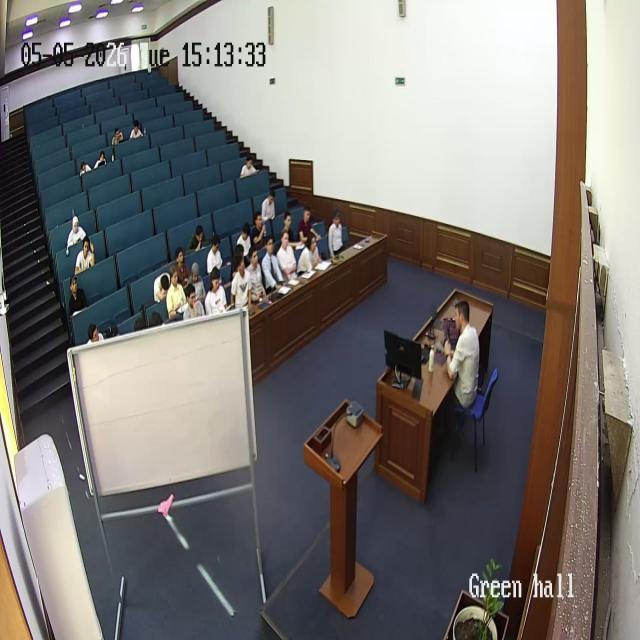person: (441, 299, 480, 417), (260, 234, 284, 292), (230, 252, 253, 310), (276, 228, 300, 282), (245, 245, 267, 302), (166, 266, 188, 319), (204, 268, 228, 314), (296, 230, 318, 276), (74, 232, 96, 276), (68, 275, 90, 317), (305, 221, 325, 267), (66, 215, 88, 253), (183, 283, 206, 319), (188, 261, 206, 305), (327, 210, 343, 258), (249, 210, 267, 252), (206, 235, 223, 277), (280, 211, 298, 248), (297, 204, 314, 243), (174, 248, 190, 286), (236, 222, 252, 260), (153, 273, 171, 303), (260, 190, 276, 222), (188, 225, 206, 252), (86, 322, 104, 346), (240, 156, 256, 178), (130, 119, 144, 140), (112, 127, 124, 151), (93, 150, 107, 169), (80, 158, 92, 175)
